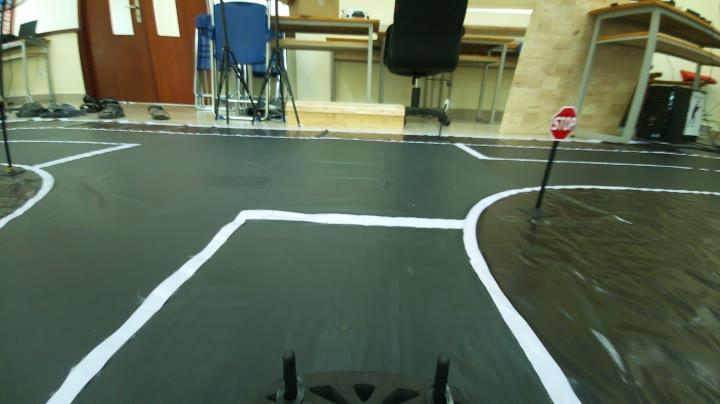stop: (544, 98, 580, 144)
